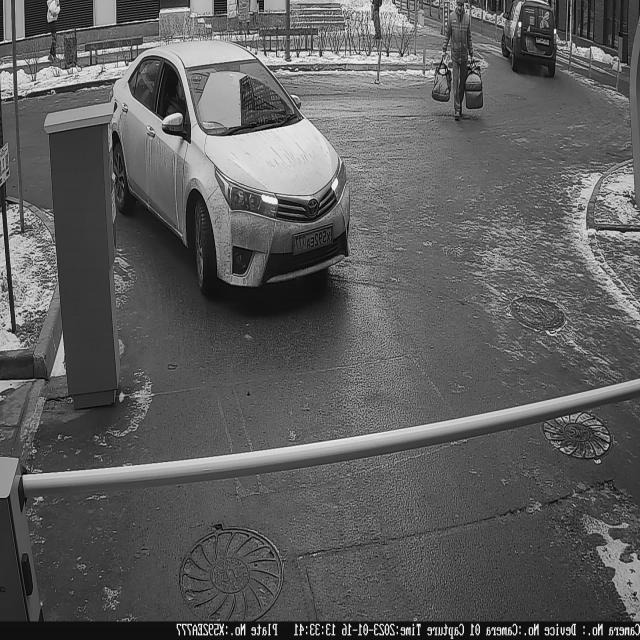car-plate-numbers: (294, 222, 337, 261)
